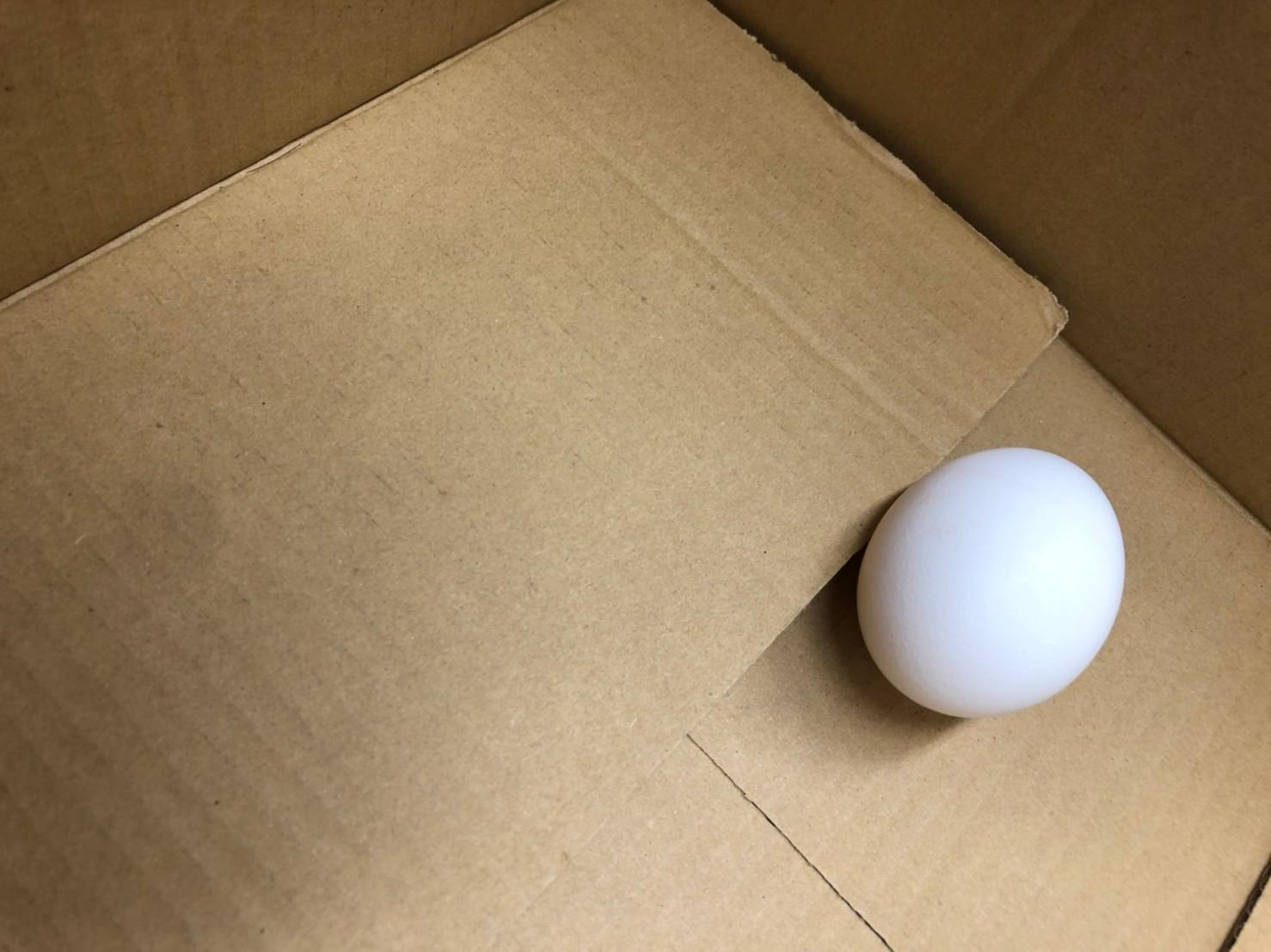egg: (844, 444, 1127, 718)
